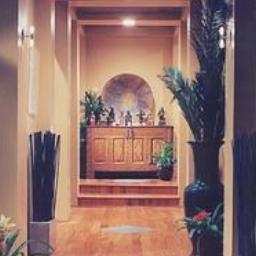Escaleras: (75, 185, 174, 208)
Matera: (181, 0, 227, 225), (27, 131, 61, 256), (230, 124, 256, 256), (0, 219, 45, 256), (186, 205, 218, 256), (151, 145, 173, 184)
